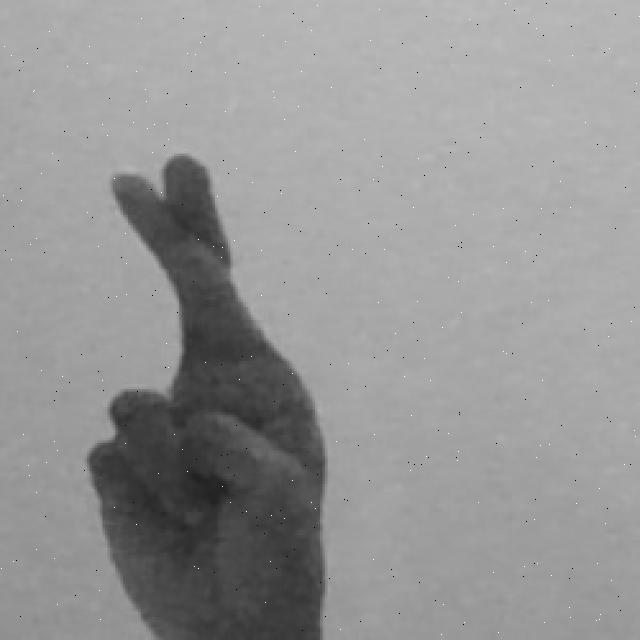R: (83, 150, 334, 640)
